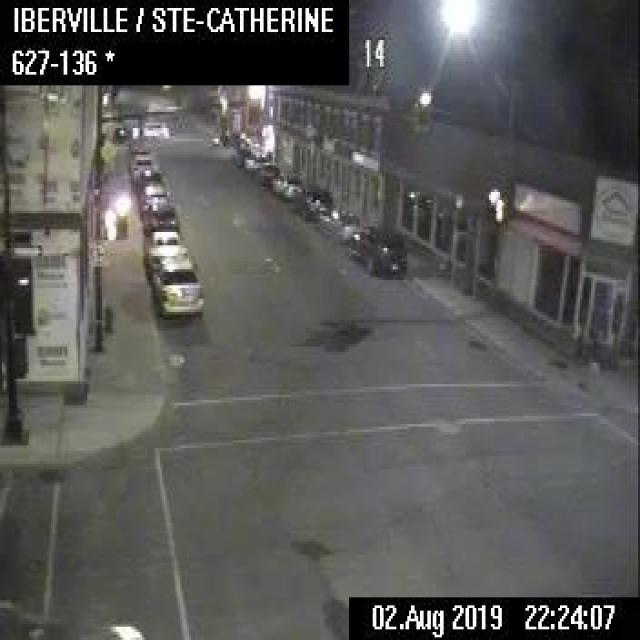vehicle: (0, 594, 145, 637), (151, 257, 204, 320), (348, 223, 407, 277), (142, 229, 187, 278), (319, 204, 360, 240), (293, 183, 331, 218), (143, 202, 178, 236), (139, 182, 172, 216), (129, 150, 158, 186), (270, 167, 303, 198), (136, 167, 164, 195), (254, 160, 278, 189), (140, 118, 168, 139)
